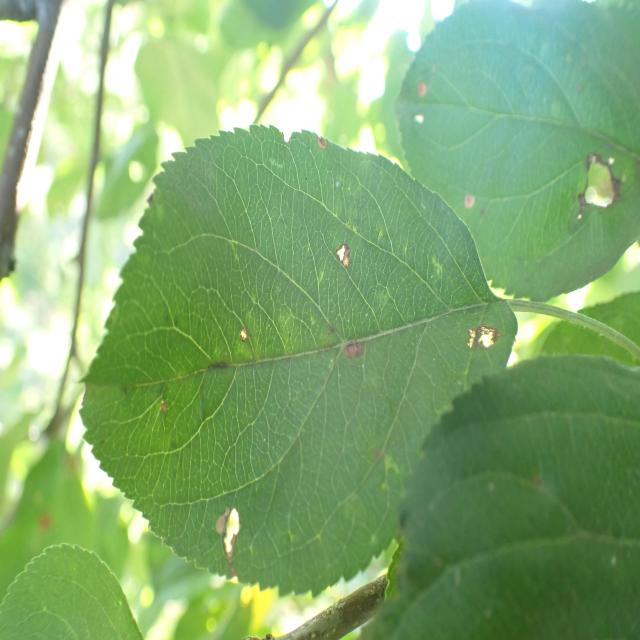frog-eye-leaf-spot: (78, 126, 519, 598), (393, 1, 640, 305)
